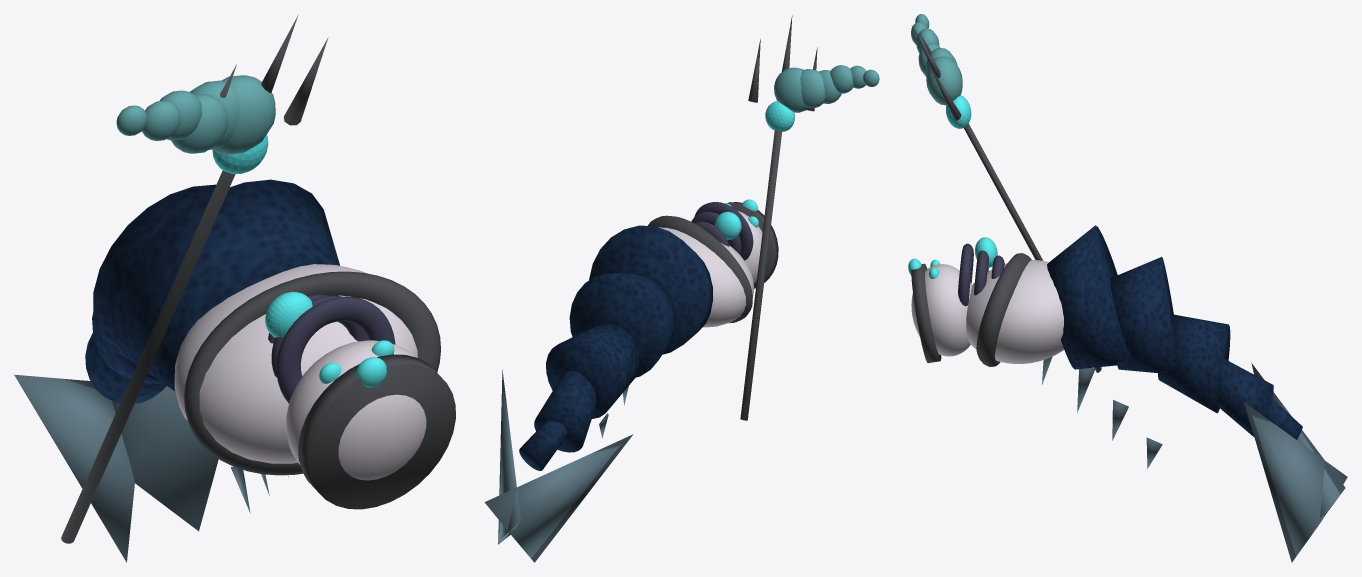
Rendered from 01_adapa_var_abissal_ataque_thrust.obj.
3 views of the same model, side by side, from view 1: azimuth 30°, elevation 25°; view 2: azimuth 150°, elevation 25°; view 3: azimuth 270°, elevation 25° (orthographic). The views are drawn at different scales.
Visible parts, largest first — view 1: Cone, Sphere, Cylinder, Torus, Cone.006, Sphere.002, Cone.005, Cylinder.001, Cone.001, Torus.001, Sphere.006, Cone.003 (+12 smaller); view 2: Cone, Cone.001, Cone.006, Cone.002, Cone.003, Sphere, Cylinder.001, Torus, Cone.005, Cone.004, Sphere.006, Sphere.007 (+6 smaller); view 3: Cone, Sphere, Cone.005, Cone.001, Cone.002, Sphere.002, Cone.003, Torus, Cylinder, Sphere.006, Cylinder.001, Cone.006 (+2 smaller).
Boxes of the visible parts, bbox=[...] form: Cone: bbox=[113, 179, 339, 391]; Sphere: bbox=[174, 264, 417, 463]; Cylinder: bbox=[298, 354, 455, 509]; Torus: bbox=[184, 271, 440, 475]; Cone.006: bbox=[14, 374, 134, 562]; Sphere.002: bbox=[286, 340, 426, 480]; Cone.005: bbox=[112, 386, 218, 531]; Cylinder.001: bbox=[61, 170, 235, 543]; Cone.001: bbox=[93, 184, 215, 358]; Torus.001: bbox=[276, 296, 395, 403]; Sphere.006: bbox=[213, 75, 275, 154]; Cone.003: bbox=[85, 333, 166, 403]; Cone: bbox=[589, 225, 712, 354]; Cone.001: bbox=[569, 273, 675, 377]; Cone.006: bbox=[484, 434, 633, 562]; Cone.002: bbox=[546, 324, 639, 418]; Cone.003: bbox=[534, 370, 596, 452]; Sphere: bbox=[658, 227, 753, 327]; Cylinder.001: bbox=[740, 130, 781, 420]; Torus: bbox=[648, 215, 752, 323]; Cone.005: bbox=[498, 369, 520, 544]; Cone.004: bbox=[519, 420, 567, 470]; Sphere.006: bbox=[774, 67, 806, 112]; Sphere.007: bbox=[800, 69, 825, 108]; Cone: bbox=[1047, 225, 1131, 369]; Sphere: bbox=[966, 260, 1064, 363]; Cone.005: bbox=[1244, 402, 1347, 562]; Cone.001: bbox=[1110, 257, 1178, 372]; Cone.002: bbox=[1158, 314, 1230, 413]; Sphere.002: bbox=[911, 264, 972, 356]; Cone.003: bbox=[1217, 359, 1273, 436]; Torus: bbox=[976, 253, 1031, 366]; Cylinder: bbox=[911, 263, 941, 363]; Sphere.006: bbox=[926, 56, 962, 105]; Cylinder.001: bbox=[964, 124, 1101, 372]; Cone.006: bbox=[1251, 363, 1345, 517].
Bounding box in the file's own units: 3.72 × 6.83 × 5.63.
Materials: 35 (35 with a texture image).
